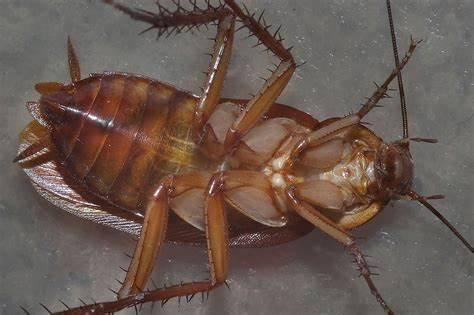cockroach: (18, 39, 422, 277)
